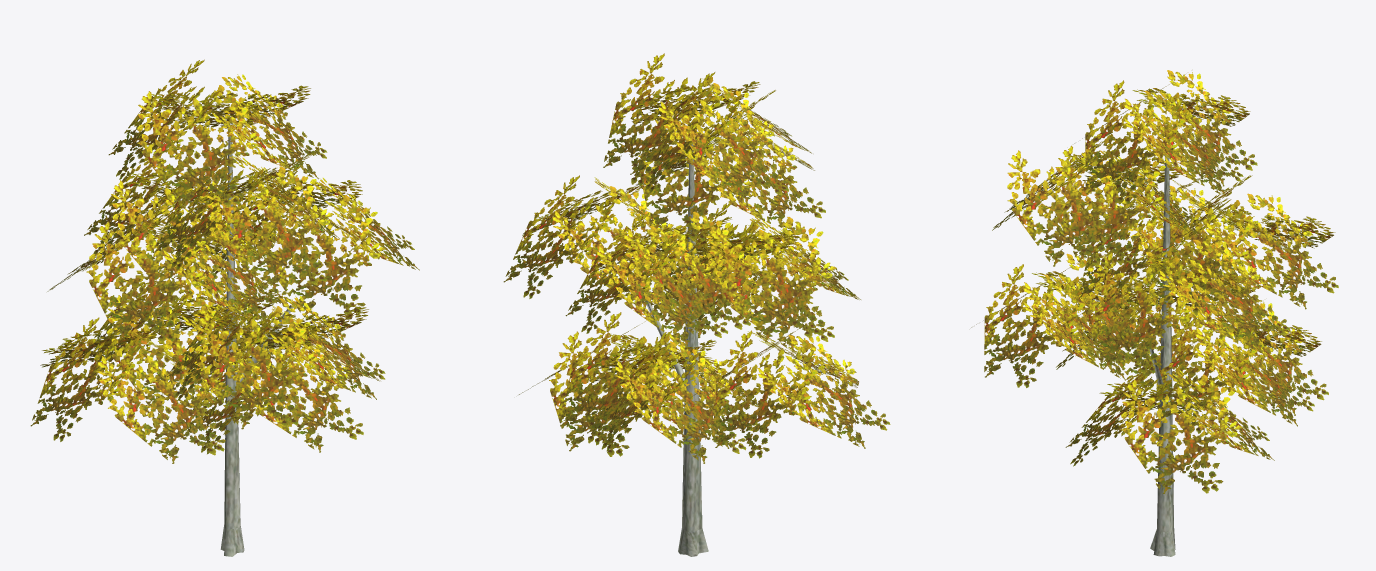
The model's file is euro_beech.dae.
3 renders of one model, left to right at view 1: azimuth 30°, elevation 25°; view 2: azimuth 150°, elevation 25°; view 3: azimuth 270°, elevation 25°, orthographic. The views are drawn at different scales.
Parts seen in each view (by area): view 1: tree_oak_b1; view 2: tree_oak_b1; view 3: tree_oak_b1.
Part boxes in pixels (bbox=[...]): tree_oak_b1: bbox=[30, 59, 419, 556]; tree_oak_b1: bbox=[503, 53, 890, 556]; tree_oak_b1: bbox=[971, 70, 1338, 556].
Size of the model in its own units: 228 by 255 by 202.
2 materials, 2 textured.
